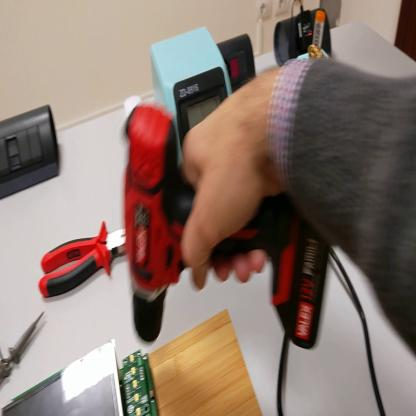electric screwdriver: (121, 101, 333, 353)
hand: (176, 76, 275, 290)
low voltage board: (1, 341, 160, 416)
oscilloscope probe tip: (3, 311, 46, 383)
pliers: (39, 223, 128, 300)
socket: (275, 7, 333, 66), (219, 32, 259, 94)
welder base: (293, 12, 332, 62)
welder station: (152, 25, 230, 170)
working area: (146, 311, 264, 416)
